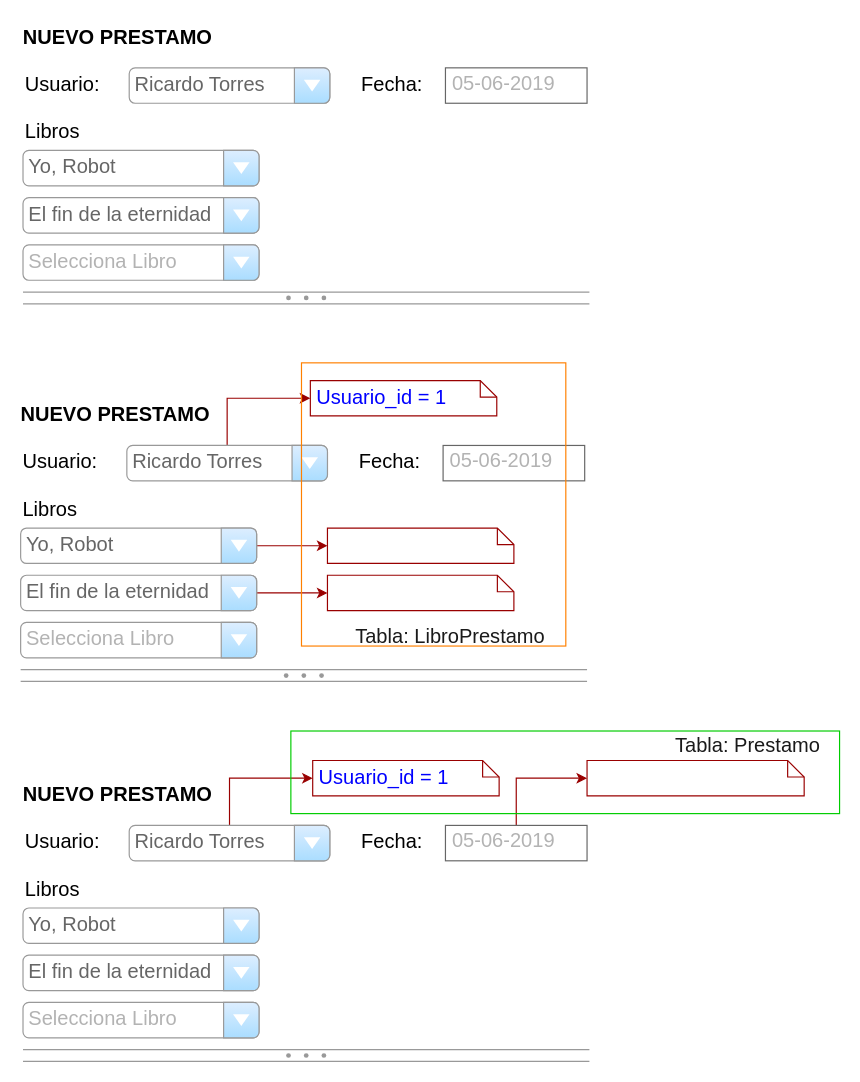
This 860x1082 diagram has some shape labels left out. The shapes that lost their labels are listed below. From the top down, each one's box as (x1, y1, x2, y2) in pixels, then its label:
(326, 527, 514, 563): Libro_id = 1
(326, 574, 514, 611): Libro_id = 2
(586, 759, 804, 796): Fecha = 05-06-2019
